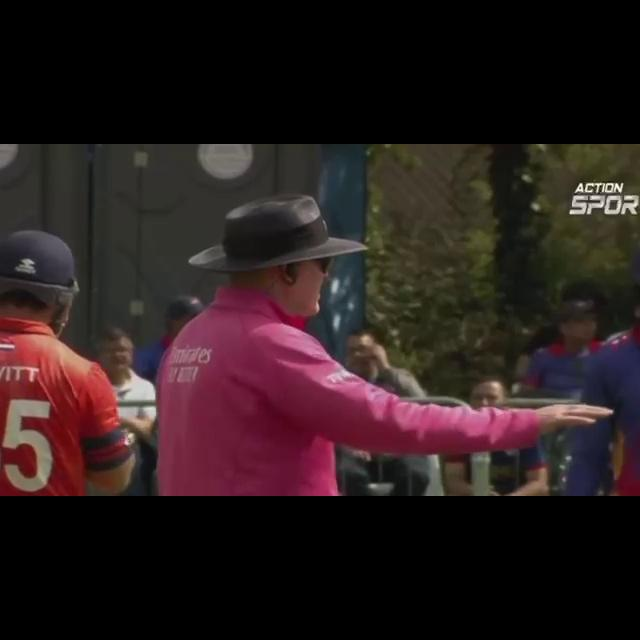umpire: (120, 183, 621, 496)
